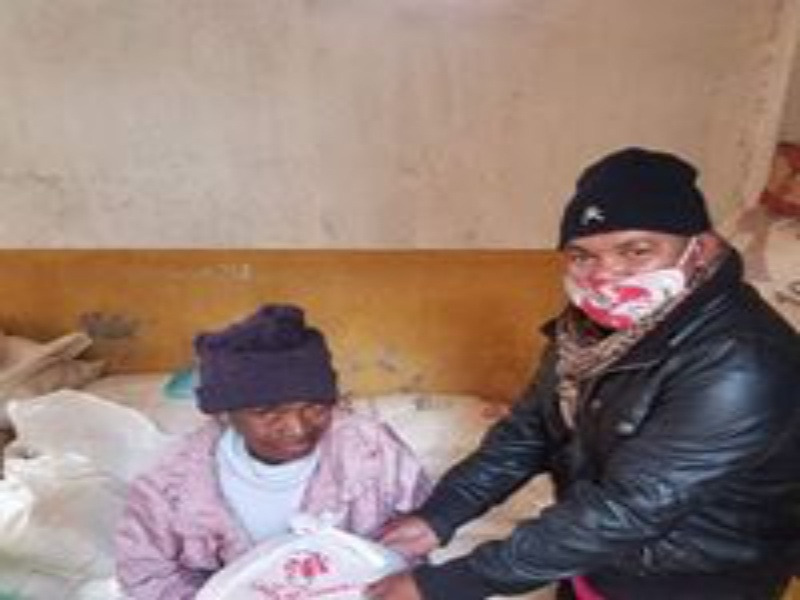ManaoArotava: (539, 145, 734, 344)
TsisyArotava: (193, 309, 354, 479)
